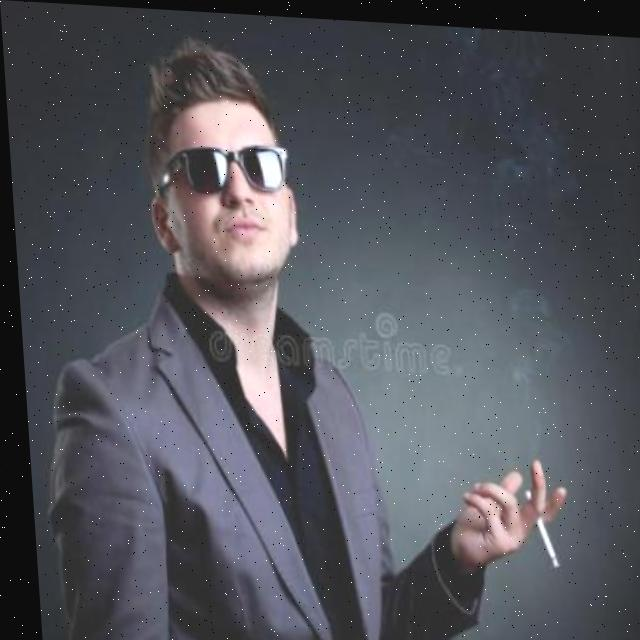cigarette: (518, 486, 553, 565)
